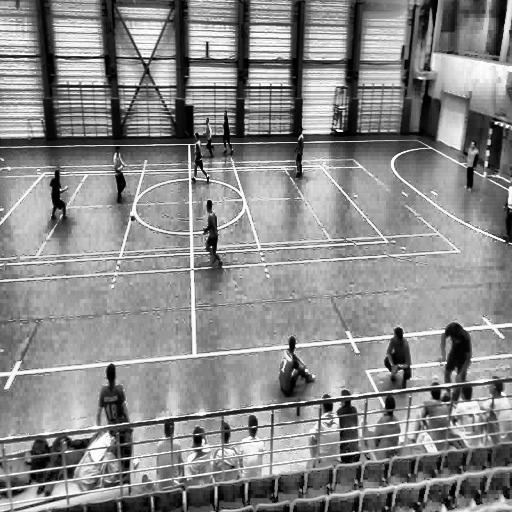ball: (129, 210, 136, 222)
player: (279, 335, 315, 403), (203, 199, 222, 268), (190, 132, 210, 184), (112, 143, 128, 205), (50, 168, 68, 223), (462, 138, 478, 192), (501, 171, 512, 243), (292, 124, 304, 178), (220, 110, 234, 156), (203, 116, 216, 162)
